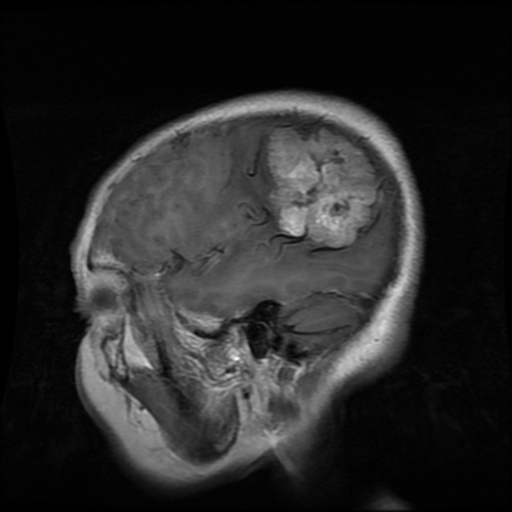meningioma: (267, 127, 377, 248)
